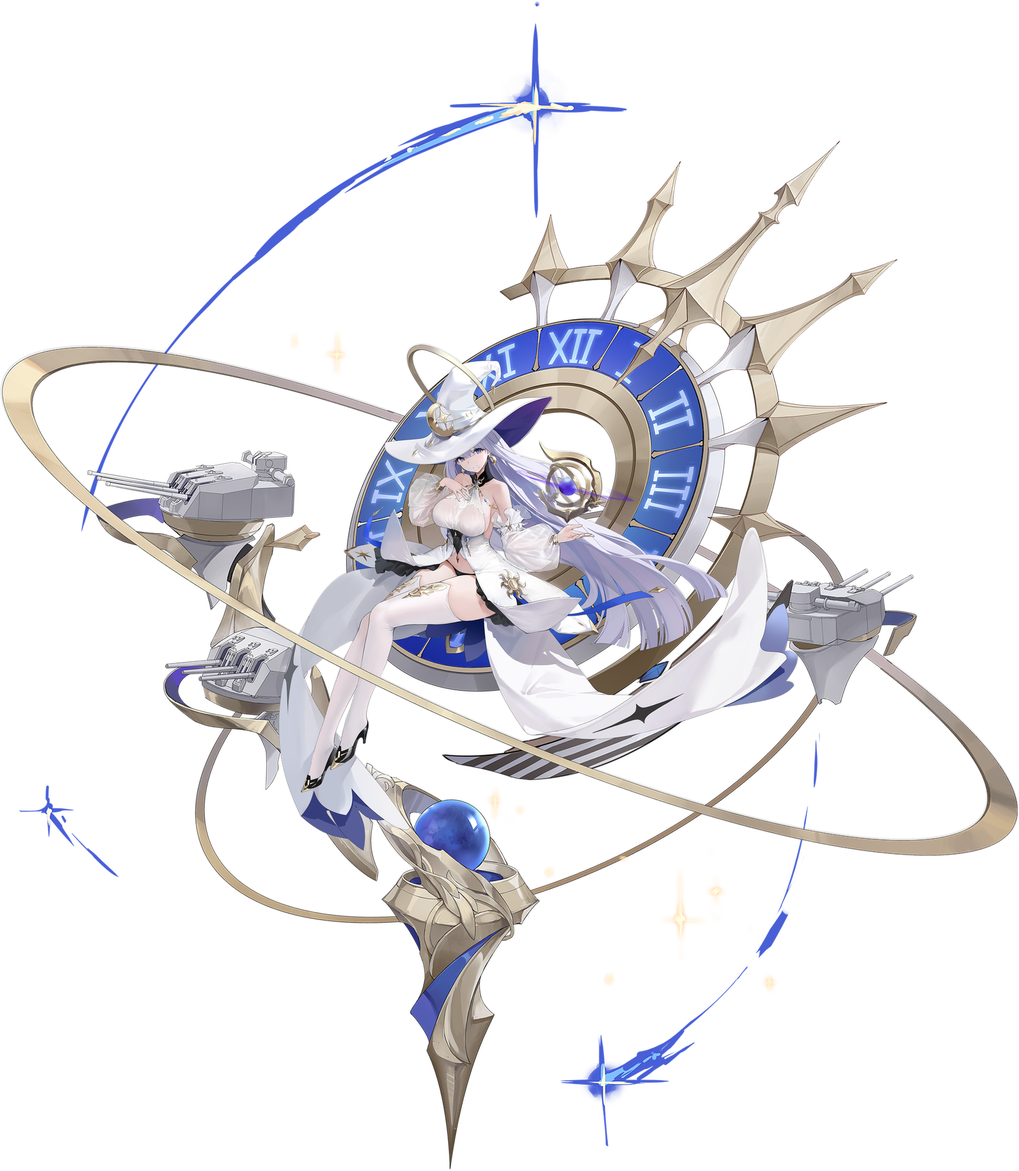person: (85, 39, 987, 1152)
